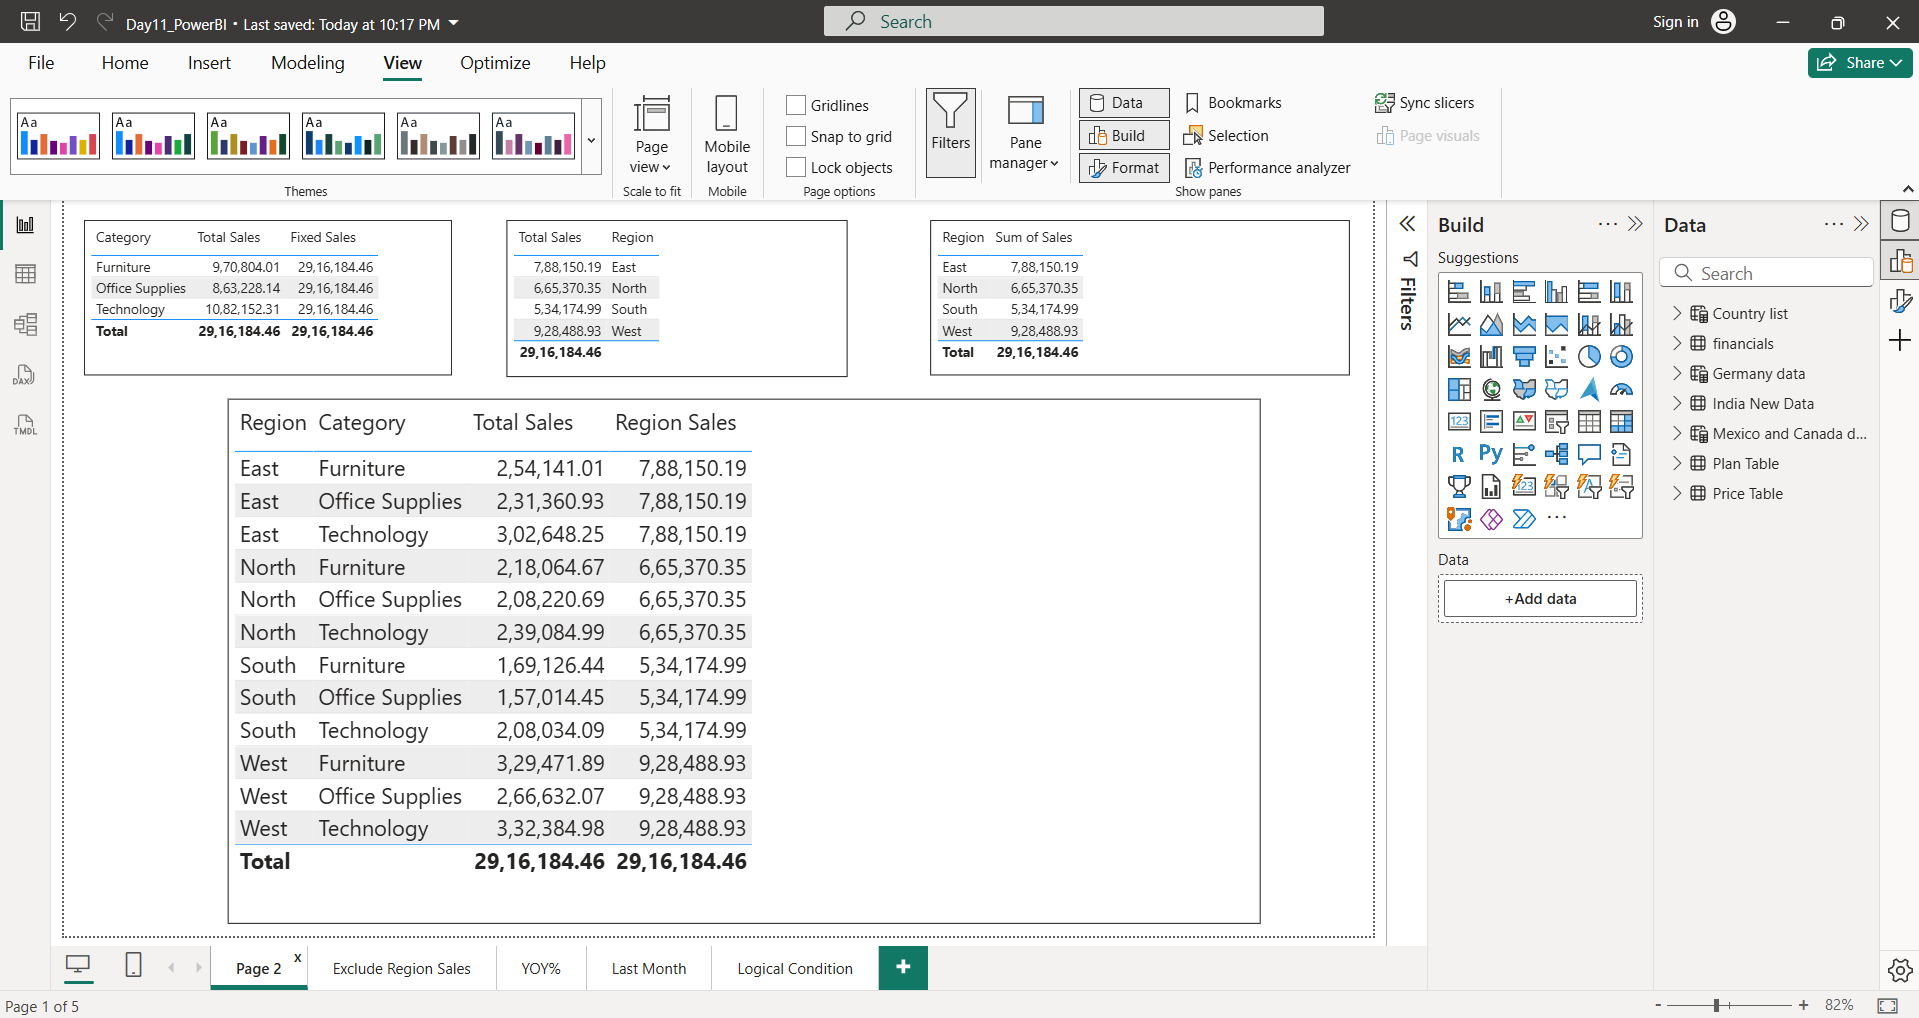

This screenshot's page, from the dashboard's own definition file:
{"tool":"powerbi","page":{"name":"Page 2","canvas":[1280,720],"ordinal":0},"visuals":[{"type":"tableEx","fields":{"Values":["India New Data.Category","India New Data.Total Sales","India New Data.Fixed Sales"]},"box":[20,20,360,152],"z":0},{"type":"tableEx","fields":{"Values":["India New Data.Total Sales","India New Data.Region"]},"box":[433.3,20,333.3,153.3],"z":1000},{"type":"tableEx","fields":{"Values":["India New Data.Region","Sum(India New Data.Sales)"]},"box":[848,20,410,152],"z":2000},{"type":"tableEx","fields":{"Values":["India New Data.Region","India New Data.Category","India New Data.Total Sales","India New Data.Region Sales"]},"box":[160,195,1010,513.3],"z":3000}]}

Visuals, with their boxes on the page's 1280x720 design canvas (x1, y1, x2, y2). These are canvas units, not pixel positions in the 1919x1018 screenshot, which may show the page scaled, cropped or inside an application window:
tableEx - India New Data.Category x India New Data.Total Sales: l=20, t=20, r=380, b=172
tableEx - India New Data.Total Sales x India New Data.Region: l=433, t=20, r=767, b=173
tableEx - India New Data.Region x Sum(India New Data.Sales): l=848, t=20, r=1258, b=172
tableEx - India New Data.Region x India New Data.Category: l=160, t=195, r=1170, b=708
